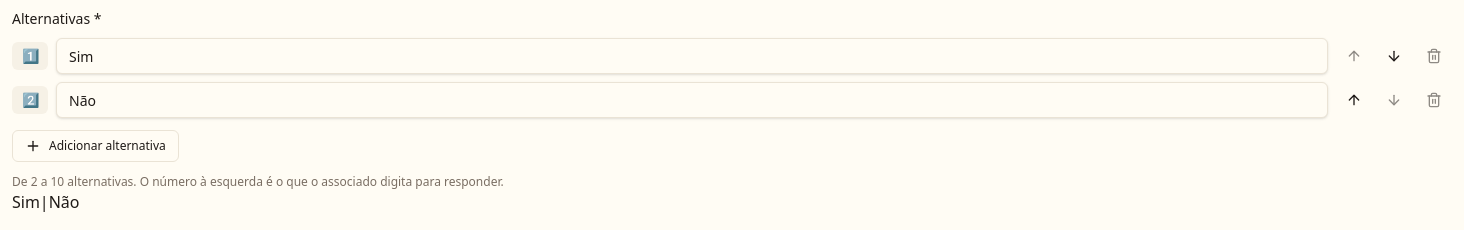
edição das alternativas (§15) › digitar altera só a alternativa tocada
Replace the text in the field named "Alternativa 1" next to "1️⃣" with "Com certeza" at (692, 56), box x1=56 y1=38 x2=1328 y2=74
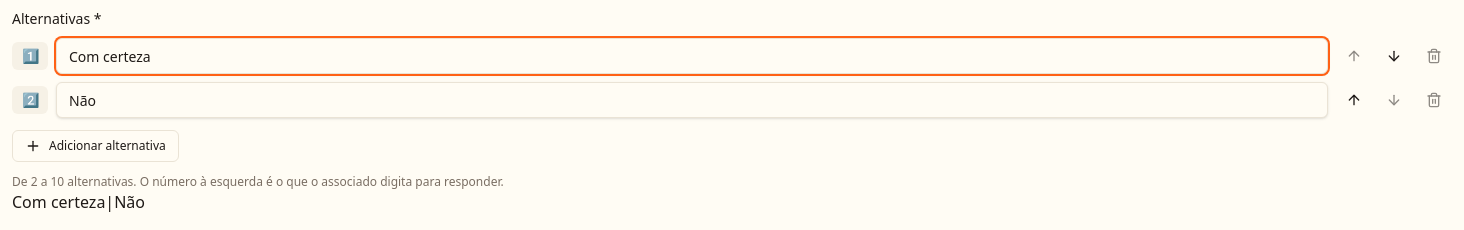
Expected: the text with test id "ordem" reads "Com certeza|Não", x1=12 y1=191 x2=145 y2=213
